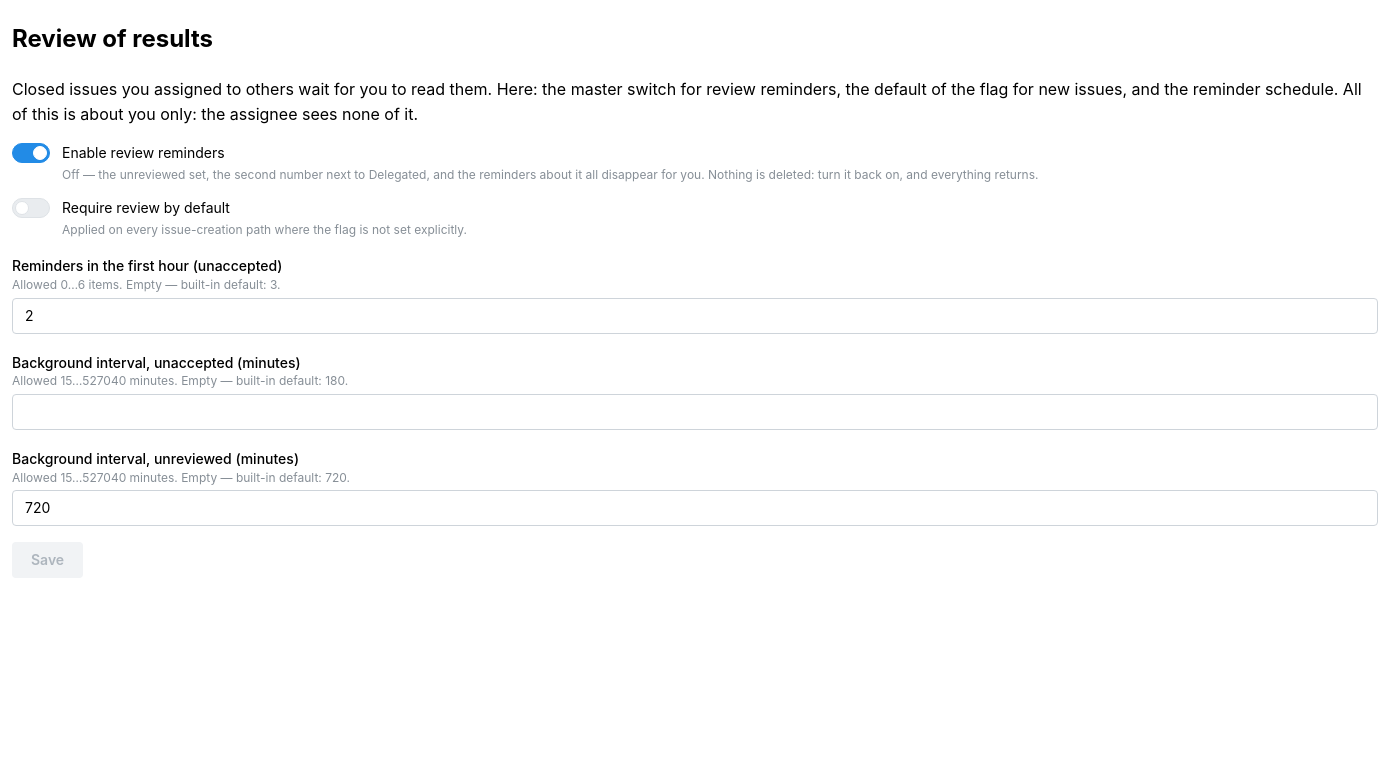
it: row 99 — a value outside the bounds shows the server refusal, unedited › the 422 text is displayed and the offending value stays in the field
Step 1. Replace the text in the field with test id "review-burst-count" with "9" → coordinates (695, 316), box left=12, top=298, right=1377, bottom=334
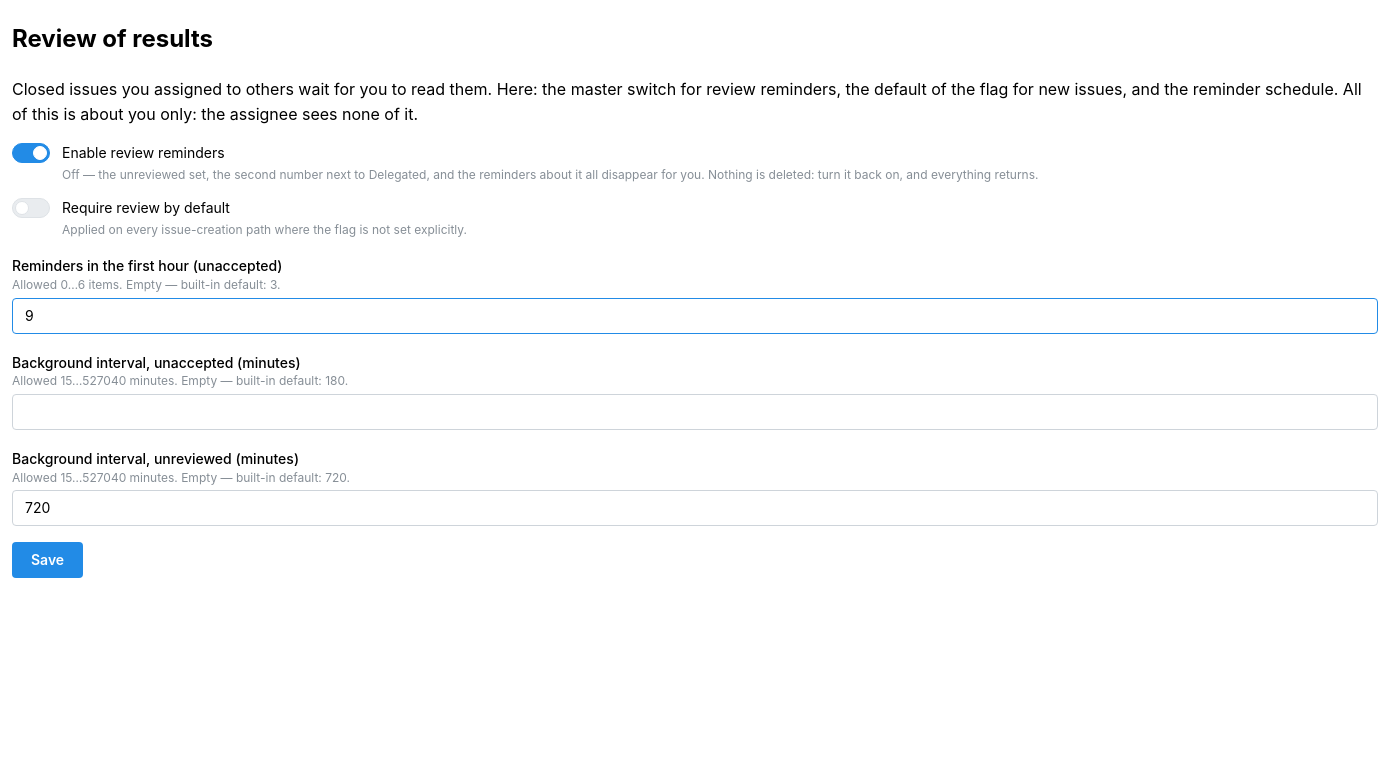
Step 2. Click the button with aria-label "Save review settings" → coordinates (48, 560), box left=12, top=542, right=83, bottom=578
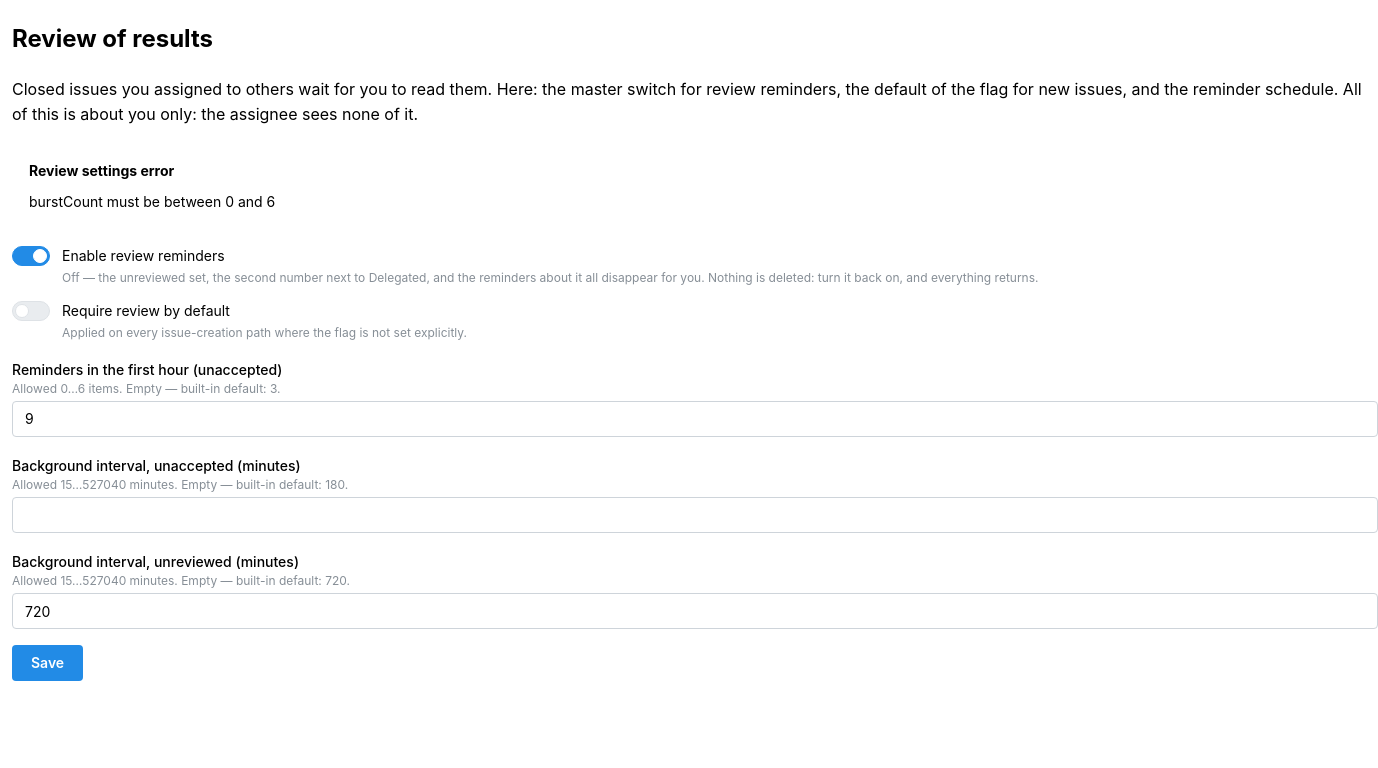
Check: the text "burstCount must be between 0 and 6" is shown, box left=29, top=193, right=275, bottom=210
Check: the text "Review settings error" is shown, box left=29, top=160, right=174, bottom=181
